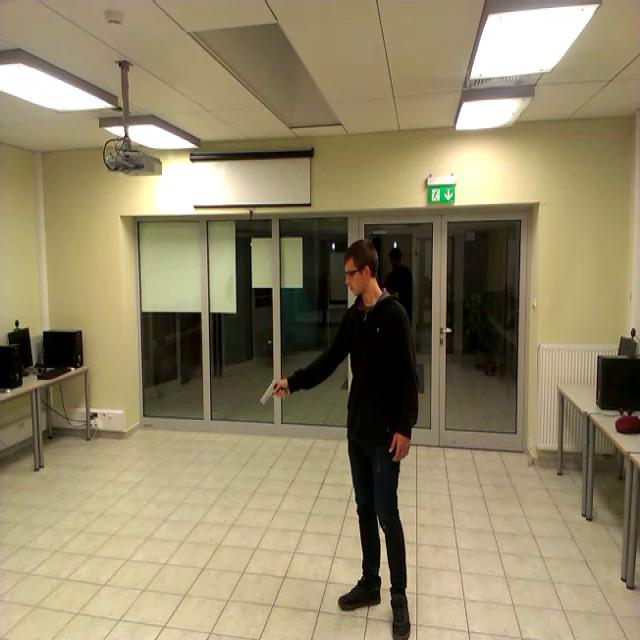handgun: (258, 372, 290, 421)
